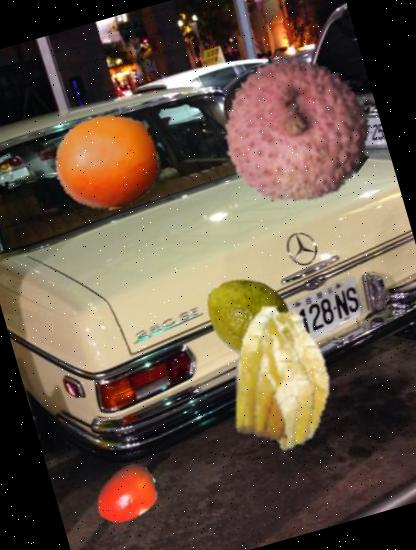Apricot: (41, 97, 172, 228)
Chestnut: (208, 80, 283, 154)
Guava: (193, 261, 299, 367)
Kaki: (86, 454, 167, 536)
Lychee: (204, 37, 390, 223)
Physalis: (190, 286, 372, 470)
